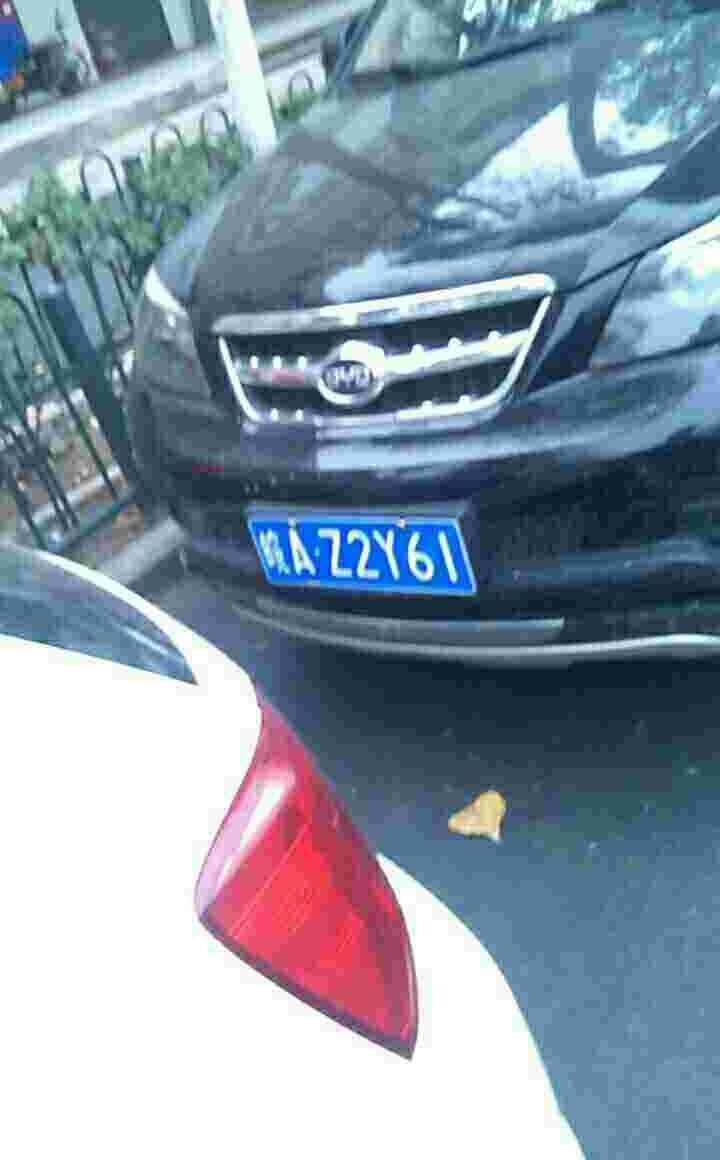license_plate: (247, 510, 476, 597)
